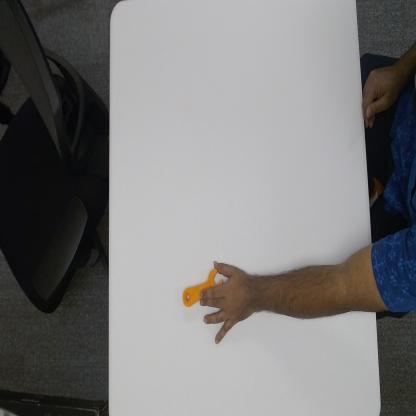Arm: (263, 238, 398, 326)
Hand: (198, 257, 257, 347)
Screwdriver: (180, 266, 224, 306)
